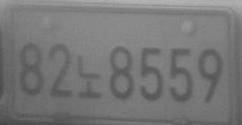2: (47, 42, 72, 97)
5: (168, 47, 194, 102), (139, 46, 164, 102)
8: (17, 41, 44, 95), (108, 45, 135, 99)
9: (196, 46, 224, 104)
노: (76, 53, 102, 99)
